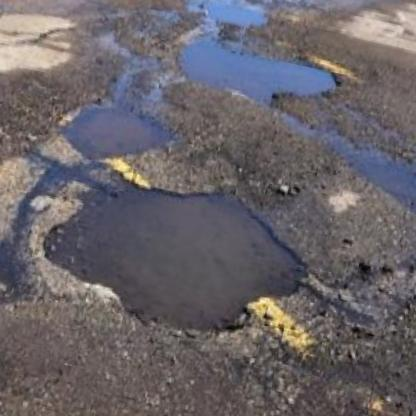pothole: (29, 154, 319, 358), (170, 29, 339, 114), (51, 89, 178, 173), (335, 255, 416, 340), (346, 138, 416, 203), (183, 0, 272, 34)
